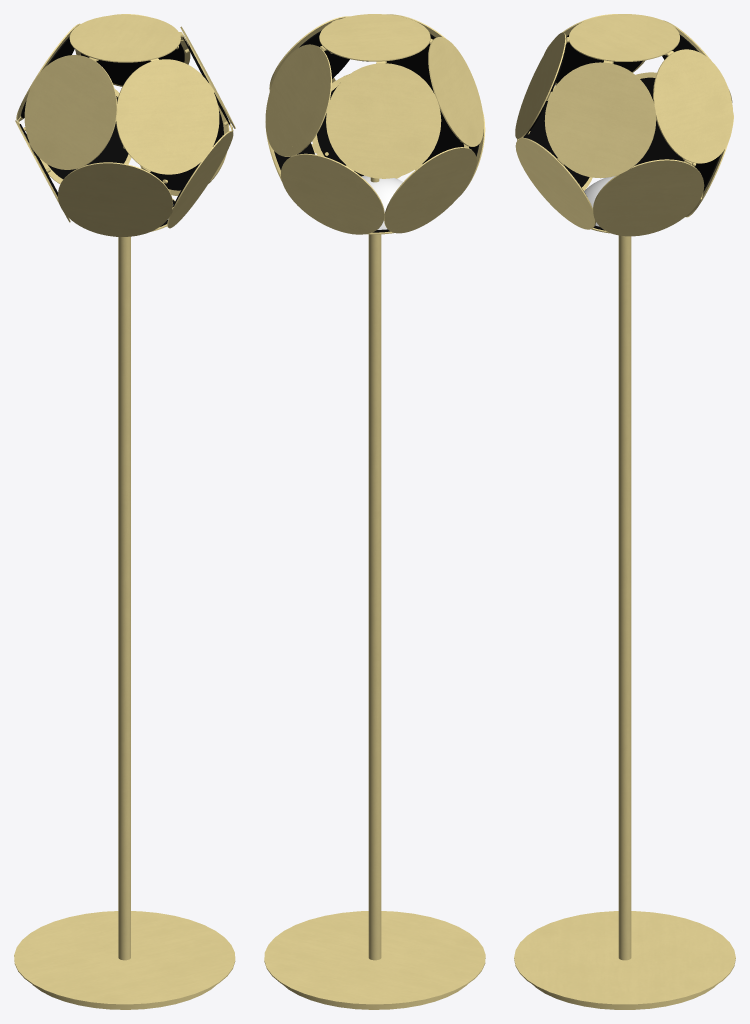
Rendered from Timeo.fbx.
The picture shows the model from 3 angles, left to right: view 1: azimuth 30°, elevation 25°; view 2: azimuth 150°, elevation 25°; view 3: azimuth 270°, elevation 25°; orthographic projection.
Parts seen in each view (by area): view 1: TIMEO_STL_EXTERIOR, TIMEO_STL_INTERIOR; view 2: TIMEO_STL_EXTERIOR, TIMEO_STL_INTERIOR, TIMEO_STL_BULB; view 3: TIMEO_STL_EXTERIOR, TIMEO_STL_INTERIOR.
Part boxes in pixels (x1,y1,x2,y2): TIMEO_STL_EXTERIOR: [14, 14, 235, 1009]; TIMEO_STL_INTERIOR: [19, 37, 230, 226]; TIMEO_STL_EXTERIOR: [264, 14, 485, 1009]; TIMEO_STL_INTERIOR: [274, 30, 479, 232]; TIMEO_STL_BULB: [361, 175, 402, 229]; TIMEO_STL_EXTERIOR: [514, 14, 735, 1009]; TIMEO_STL_INTERIOR: [523, 34, 720, 230].
Bounding box in the file's own units: 0.3515 × 1.62 × 0.3494.
Materials: 3 (1 with a texture image).
